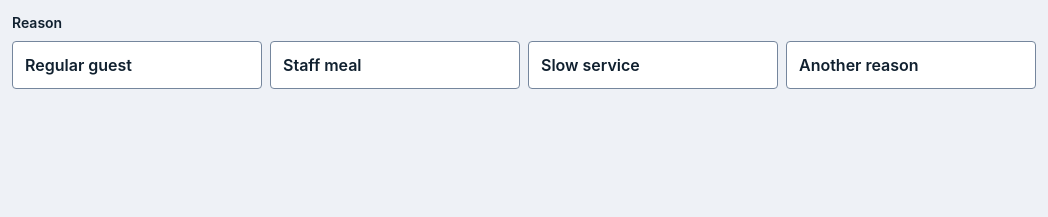
it: ReasonPicker › opens a box to type only for another reason, and gives what is typed
Click the radio button with test id "discount-reason-other" at point(911, 65), box left=786, top=41, right=1036, bottom=89
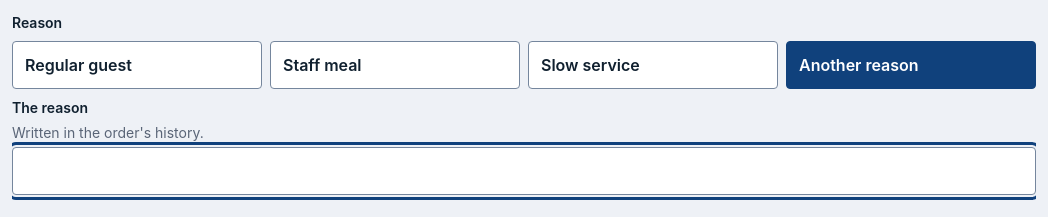
Result: the text "Written in the order's history." is shown at left=12, top=124, right=204, bottom=141
Type "Birthday" into the field labelled "The reason" at point(524, 171), box left=12, top=147, right=1036, bottom=195
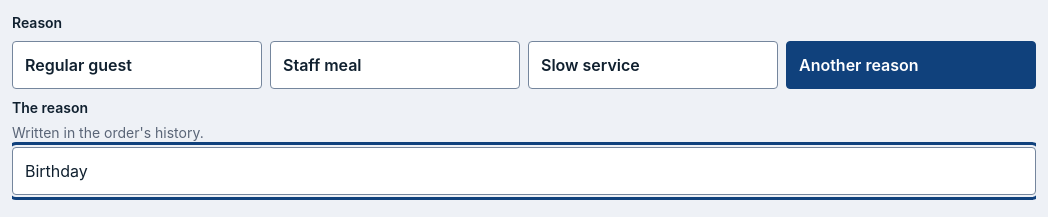
// Back to a listed reason: the typed words are no longer the reason.
Click the radio button labelled "Regular guest" at point(137, 65), box left=12, top=41, right=262, bottom=89
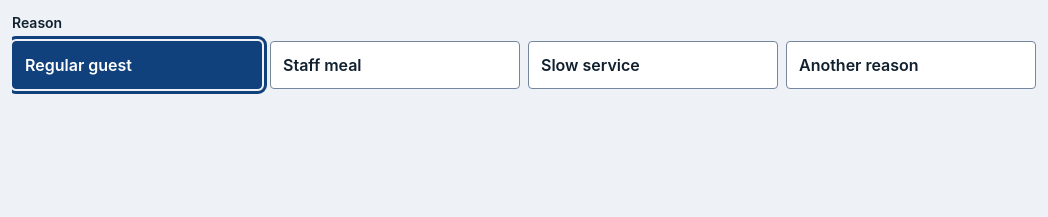
Result: the field is gone
